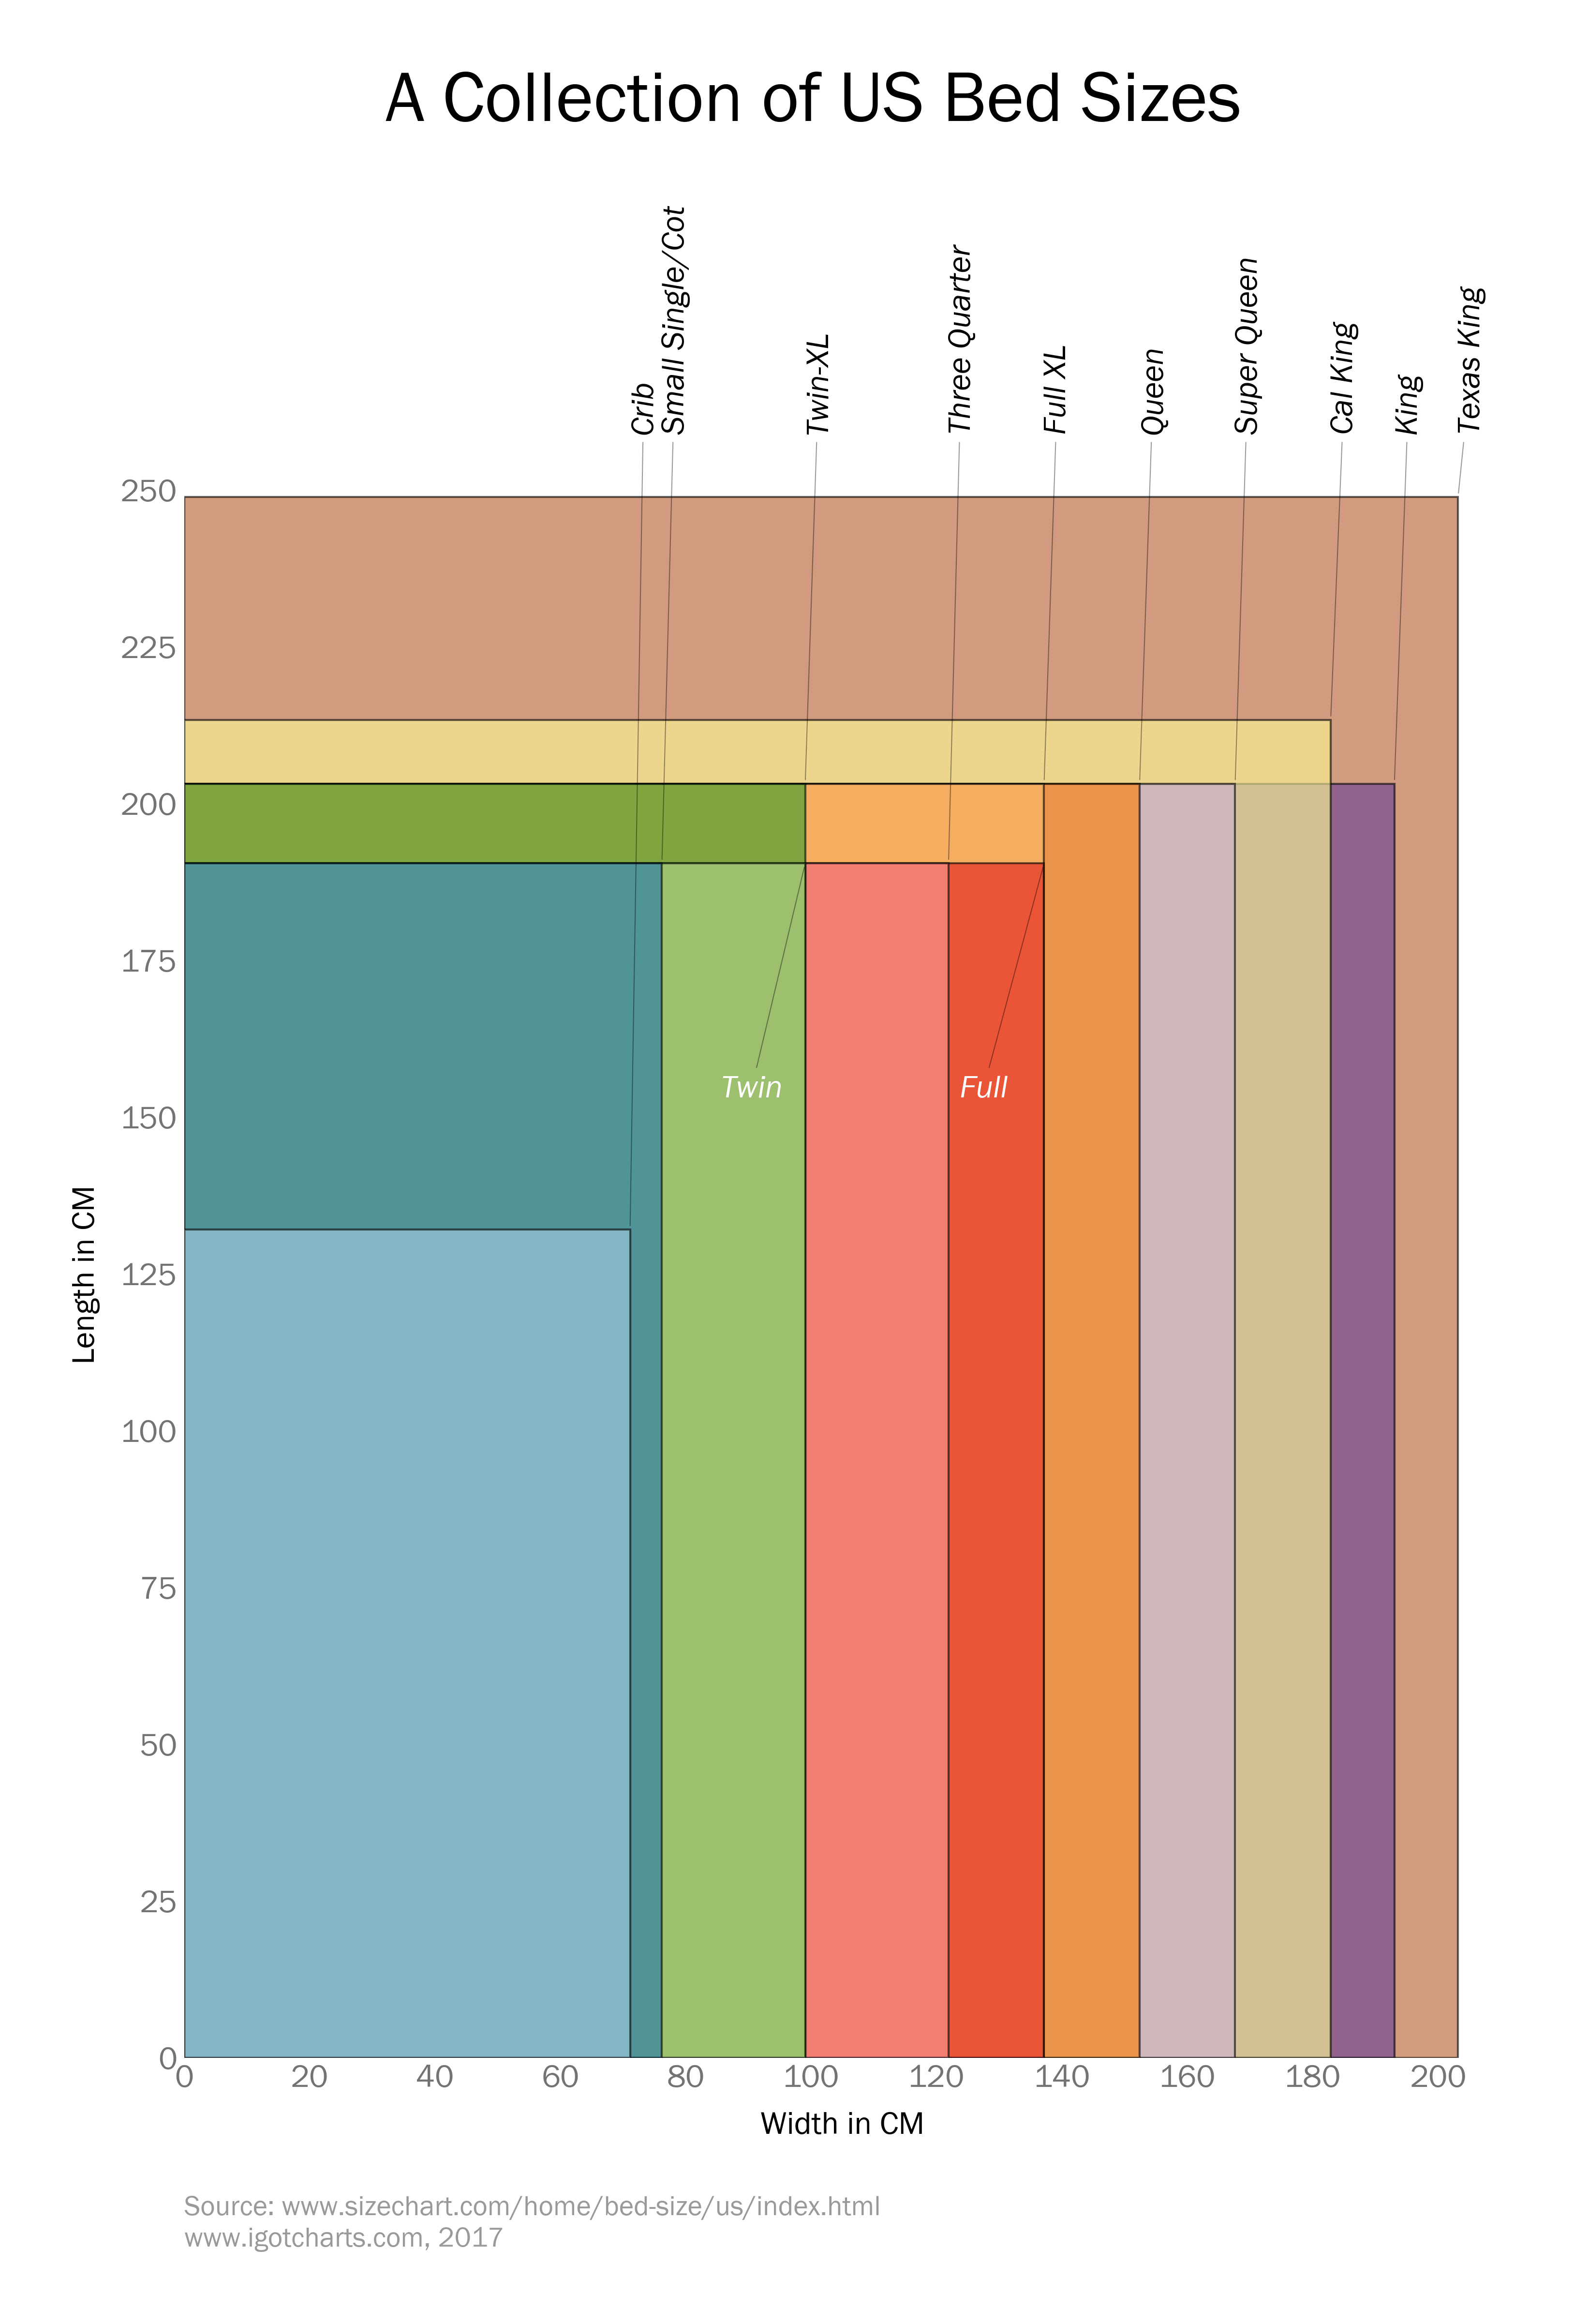

This screenshot's page, from the dashboard's own definition file:
{"tool":"tableau","page":{"name":"Dashboard 1","canvas":[1000,700],"ordinal":0},"visuals":[{"type":"worksheet","title":"Sheet 1","mark":"Shape","rows":["Function"],"cols":["Chart Type"],"box":[7,10,934,584]},{"type":"worksheet","title":"column totals","mark":"Automatic","cols":["Chart Type"],"box":[166,608,777,31]}]}

Visuals, with their boxes on the page's 1000x700 design canvas (x1, y1, x2, y2). These are canvas units, not pixel positions in the 1574x2324 screenshot, which may show the page scaled, cropped or inside an application window:
"Sheet 1" worksheet (Shape marks): <bbox>7, 10, 941, 594</bbox>
"column totals" worksheet: <bbox>166, 608, 943, 639</bbox>
